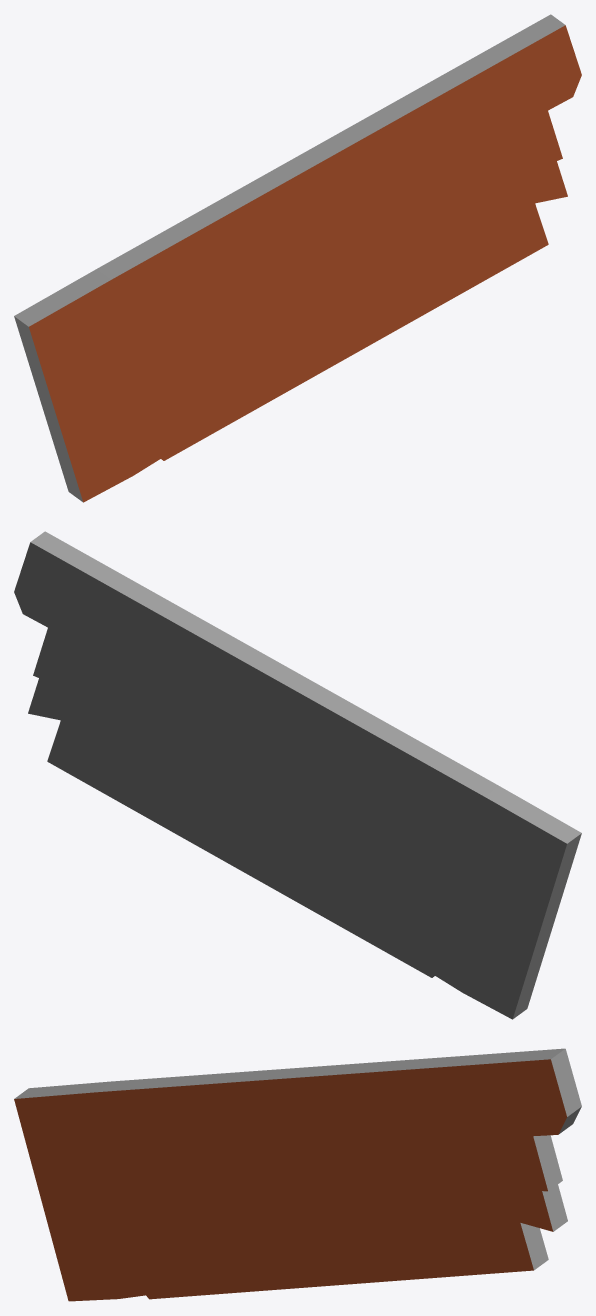
File: construction_0116_assumed_A_Grande_construcao_h6m.obj
3 views of the same model, one above another, from view 1: azimuth 30°, elevation 25°; view 2: azimuth 150°, elevation 25°; view 3: azimuth 330°, elevation 25° (orthographic).
Parts seen in each view (by area): view 1: construction_0116_assumed_A_Grande_construcao; view 2: construction_0116_assumed_A_Grande_construcao; view 3: construction_0116_assumed_A_Grande_construcao.
Part boxes in pixels (x1,y1,x2,y2): construction_0116_assumed_A_Grande_construcao: (14, 14, 581, 502); construction_0116_assumed_A_Grande_construcao: (14, 531, 581, 1019); construction_0116_assumed_A_Grande_construcao: (14, 1048, 581, 1301).
Size of the model in its own units: 130 by 80.56 by 6.
